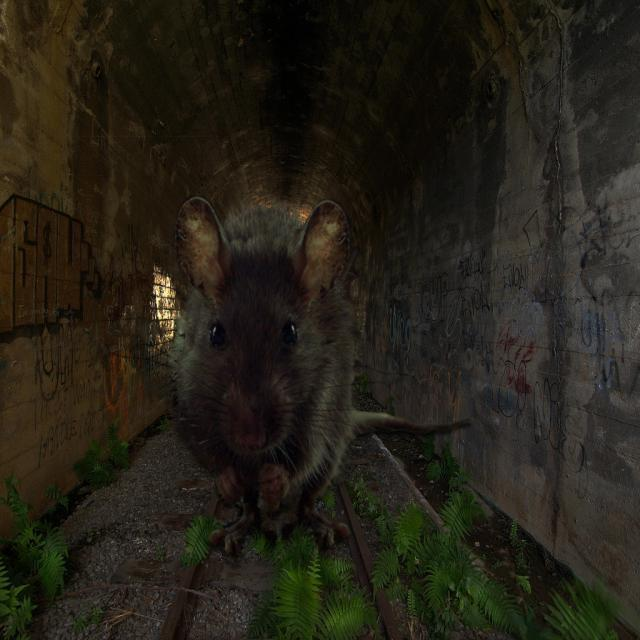rat: (169, 191, 474, 558)
